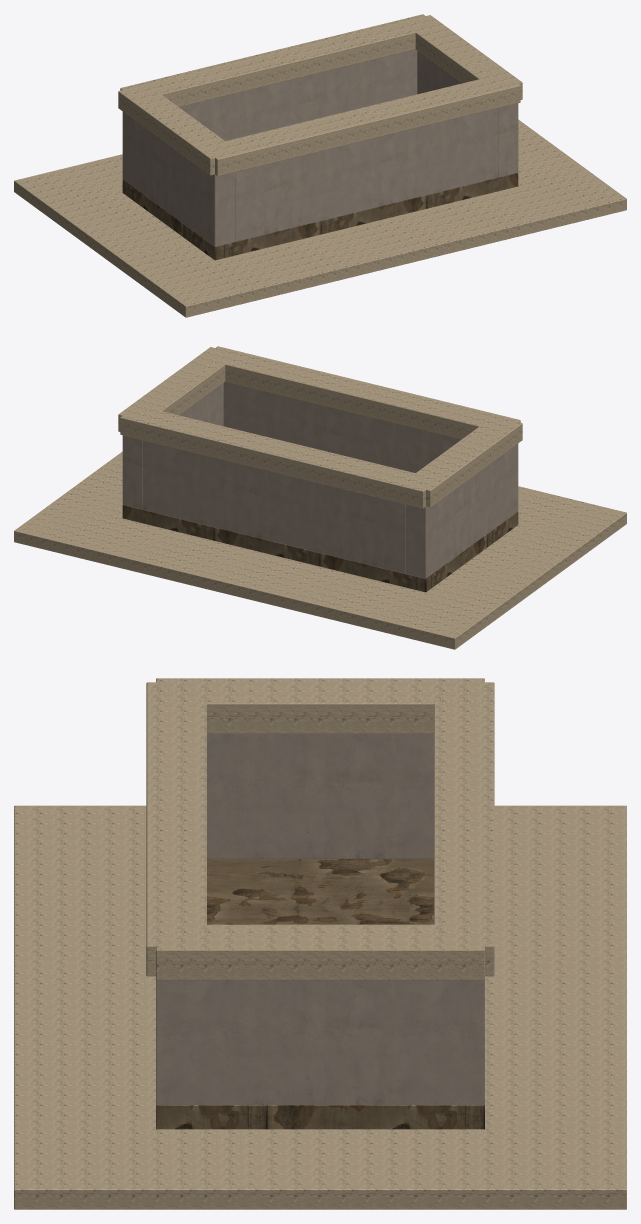
The model's file is spice-roof-north.glb.
3 renders of one model, top to bottom at view 1: azimuth 30°, elevation 25°; view 2: azimuth 150°, elevation 25°; view 3: azimuth 270°, elevation 25°, orthographic. The views are drawn at different scales.
Parts seen in each view (by area): view 1: spice-roof-north; view 2: spice-roof-north; view 3: spice-roof-north.
Part boxes in pixels (left/top/right/bottom): spice-roof-north: left=14, top=14, right=626, bottom=317; spice-roof-north: left=14, top=346, right=626, bottom=649; spice-roof-north: left=14, top=678, right=626, bottom=1209.
Size of the model in its own units: 4.8 by 1.19 by 3.24.
1 material, 1 textured.
